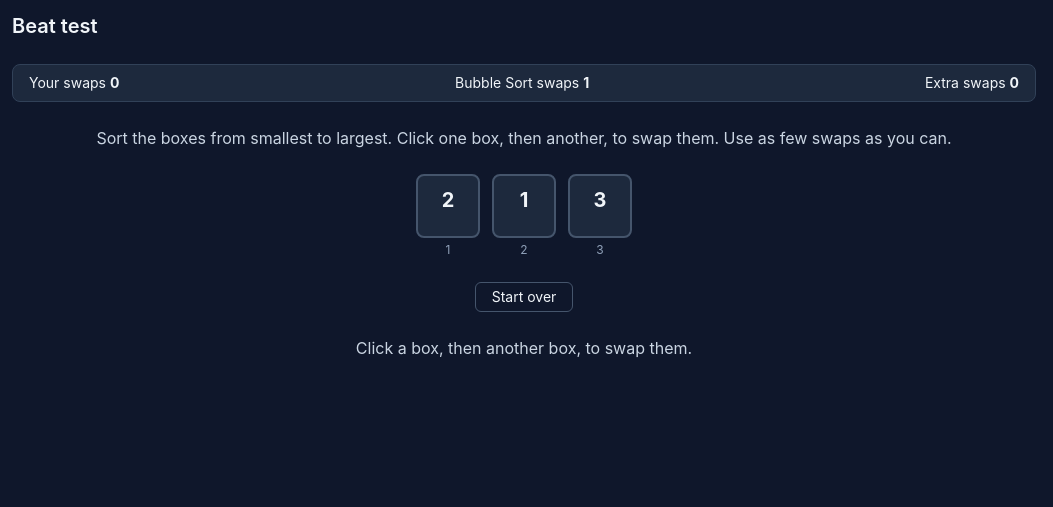
Test case: BeatScreen › extra swaps cost stars, but finishing still earns some
Click the button named "Box 1: 2, idle".
click(448, 206)  # box [416, 174, 480, 238]
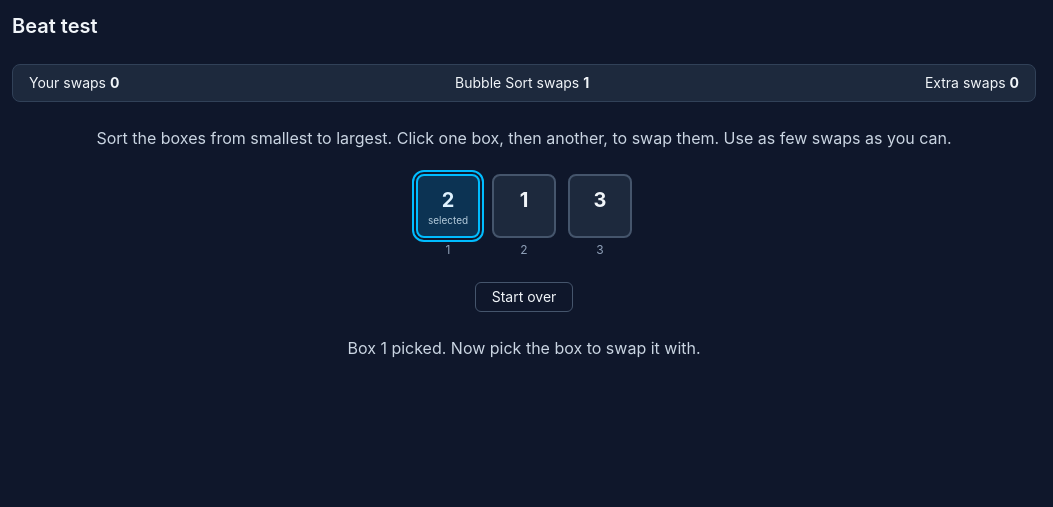
Click the button named "Box 3: 3, idle".
click(600, 206)  # box [568, 174, 632, 238]
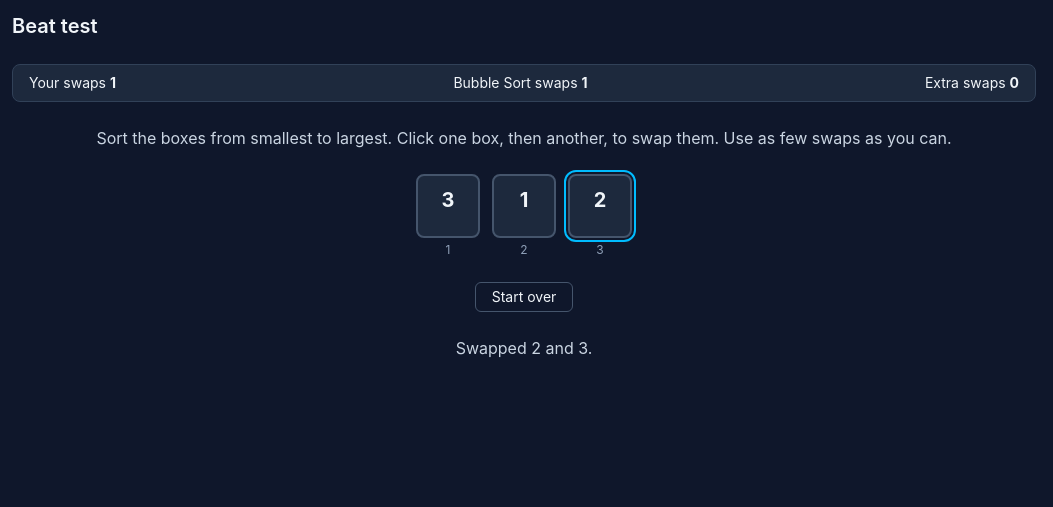
Click the button "3".
click(448, 206)  # box [416, 174, 480, 238]
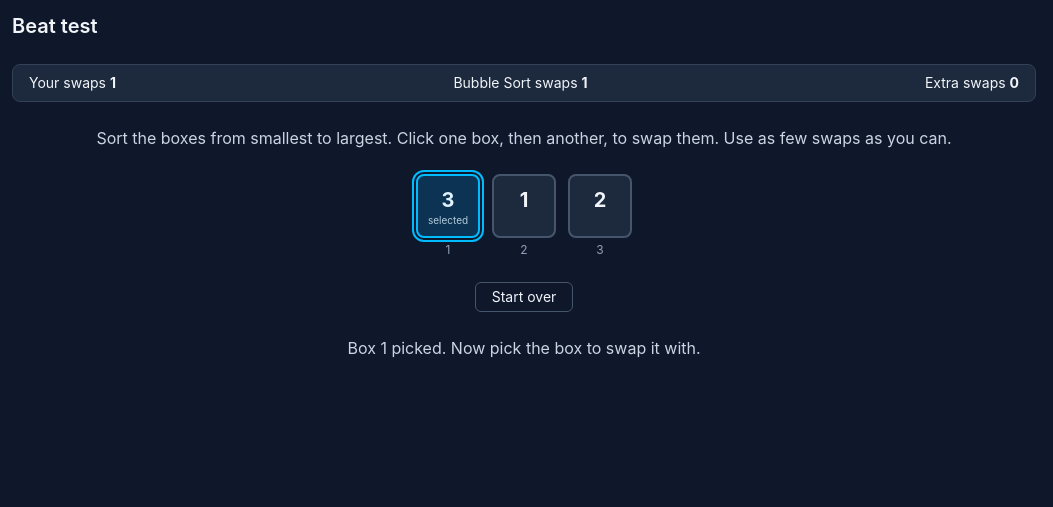
Click the button named "Box 2: 1, idle".
click(524, 206)  # box [492, 174, 556, 238]
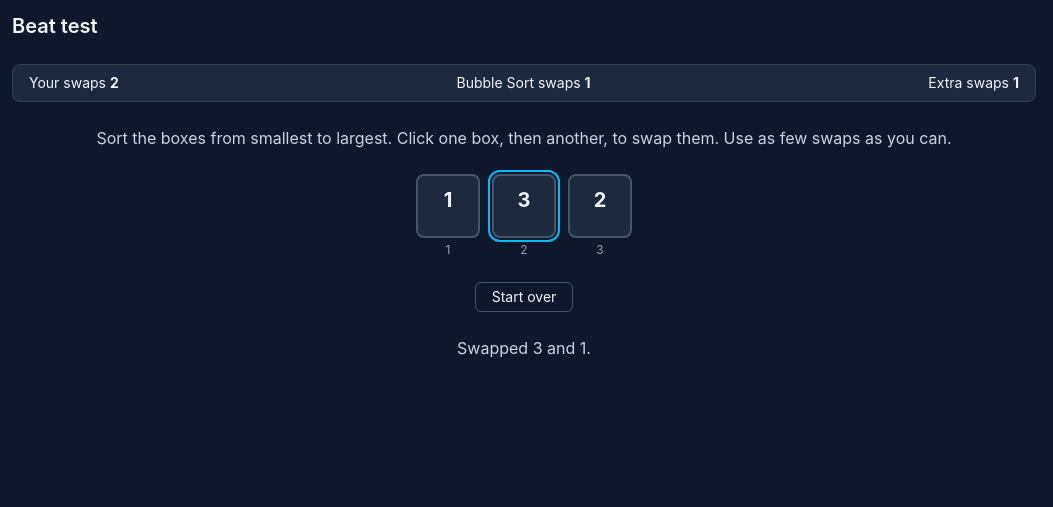
Click the button "3".
click(524, 206)  # box [492, 174, 556, 238]
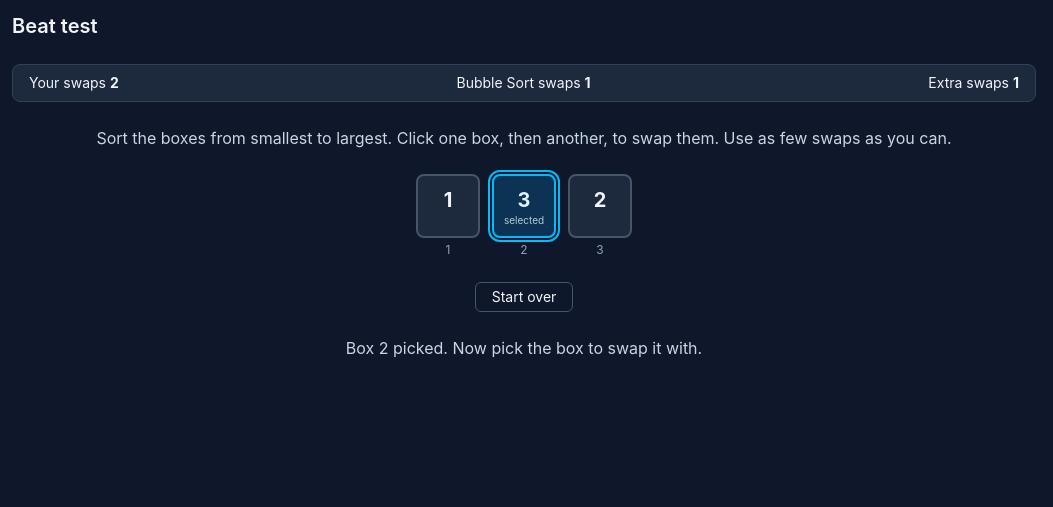
Click the button "2".
click(600, 206)  # box [568, 174, 632, 238]
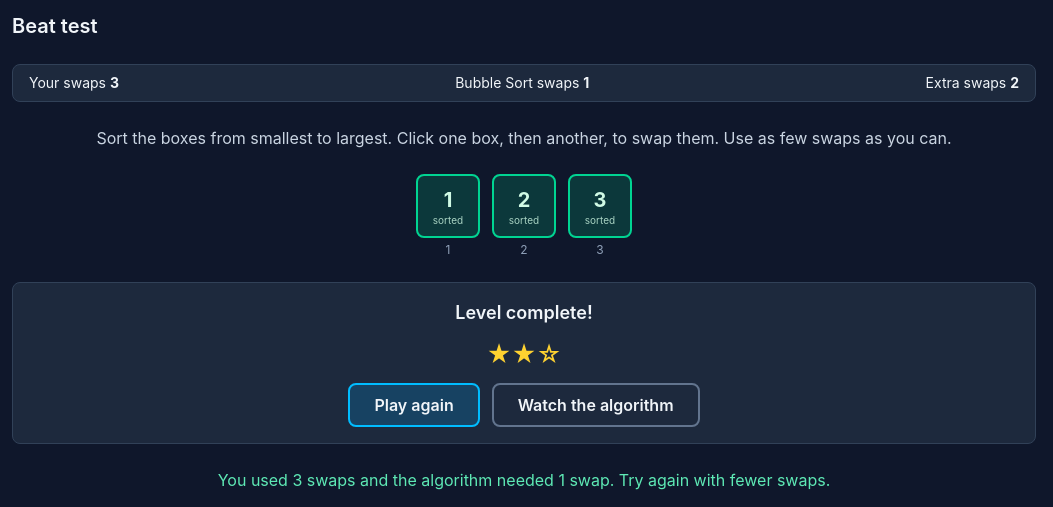
Now the picture named "2 of 3 stars" is shown, box [486, 339, 562, 371]
Now the text "Try again" is shown, box [218, 470, 830, 490]
Now the element named "Game stats" shows "Extra swaps 2", box [12, 64, 1036, 102]
